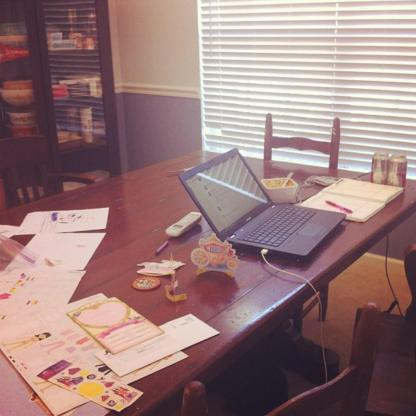board: (180, 145, 345, 259), (388, 154, 406, 189), (371, 152, 389, 186)
